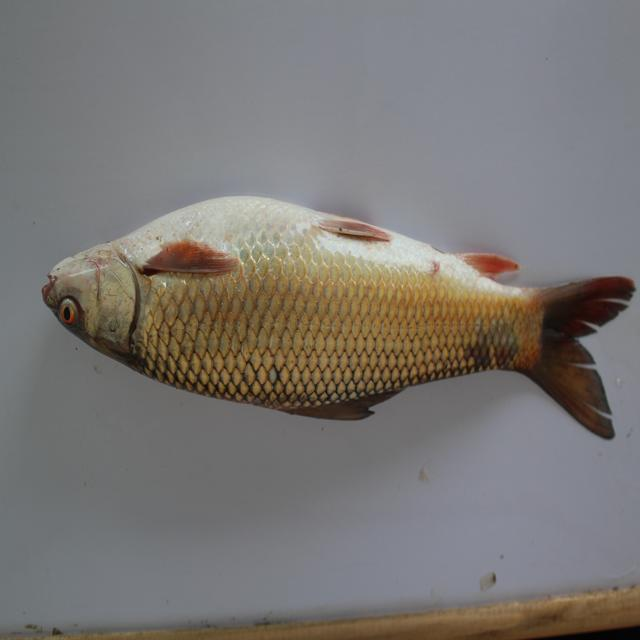Mori: (40, 184, 632, 467)
